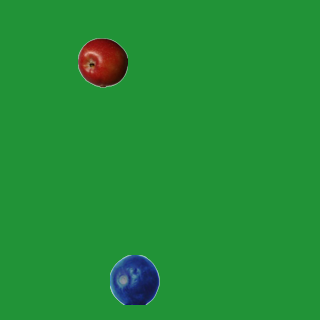Apple Braeburn: (77, 37, 127, 87)
Huckleberry: (109, 254, 159, 304)
